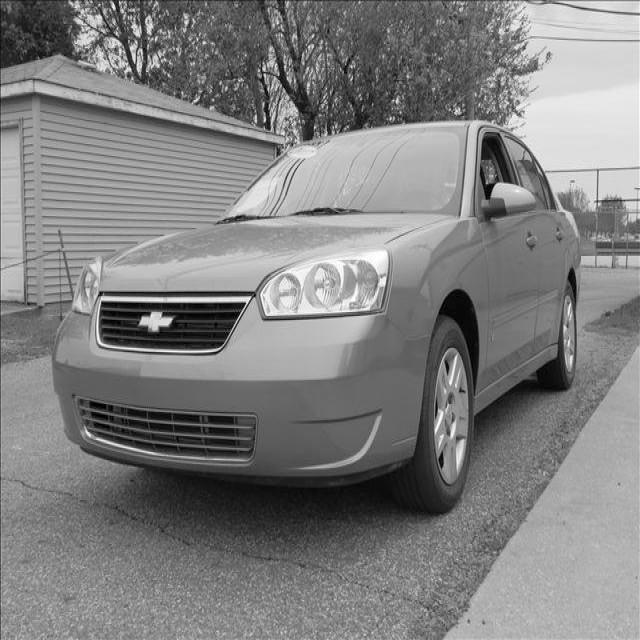car: (51, 117, 581, 515)
